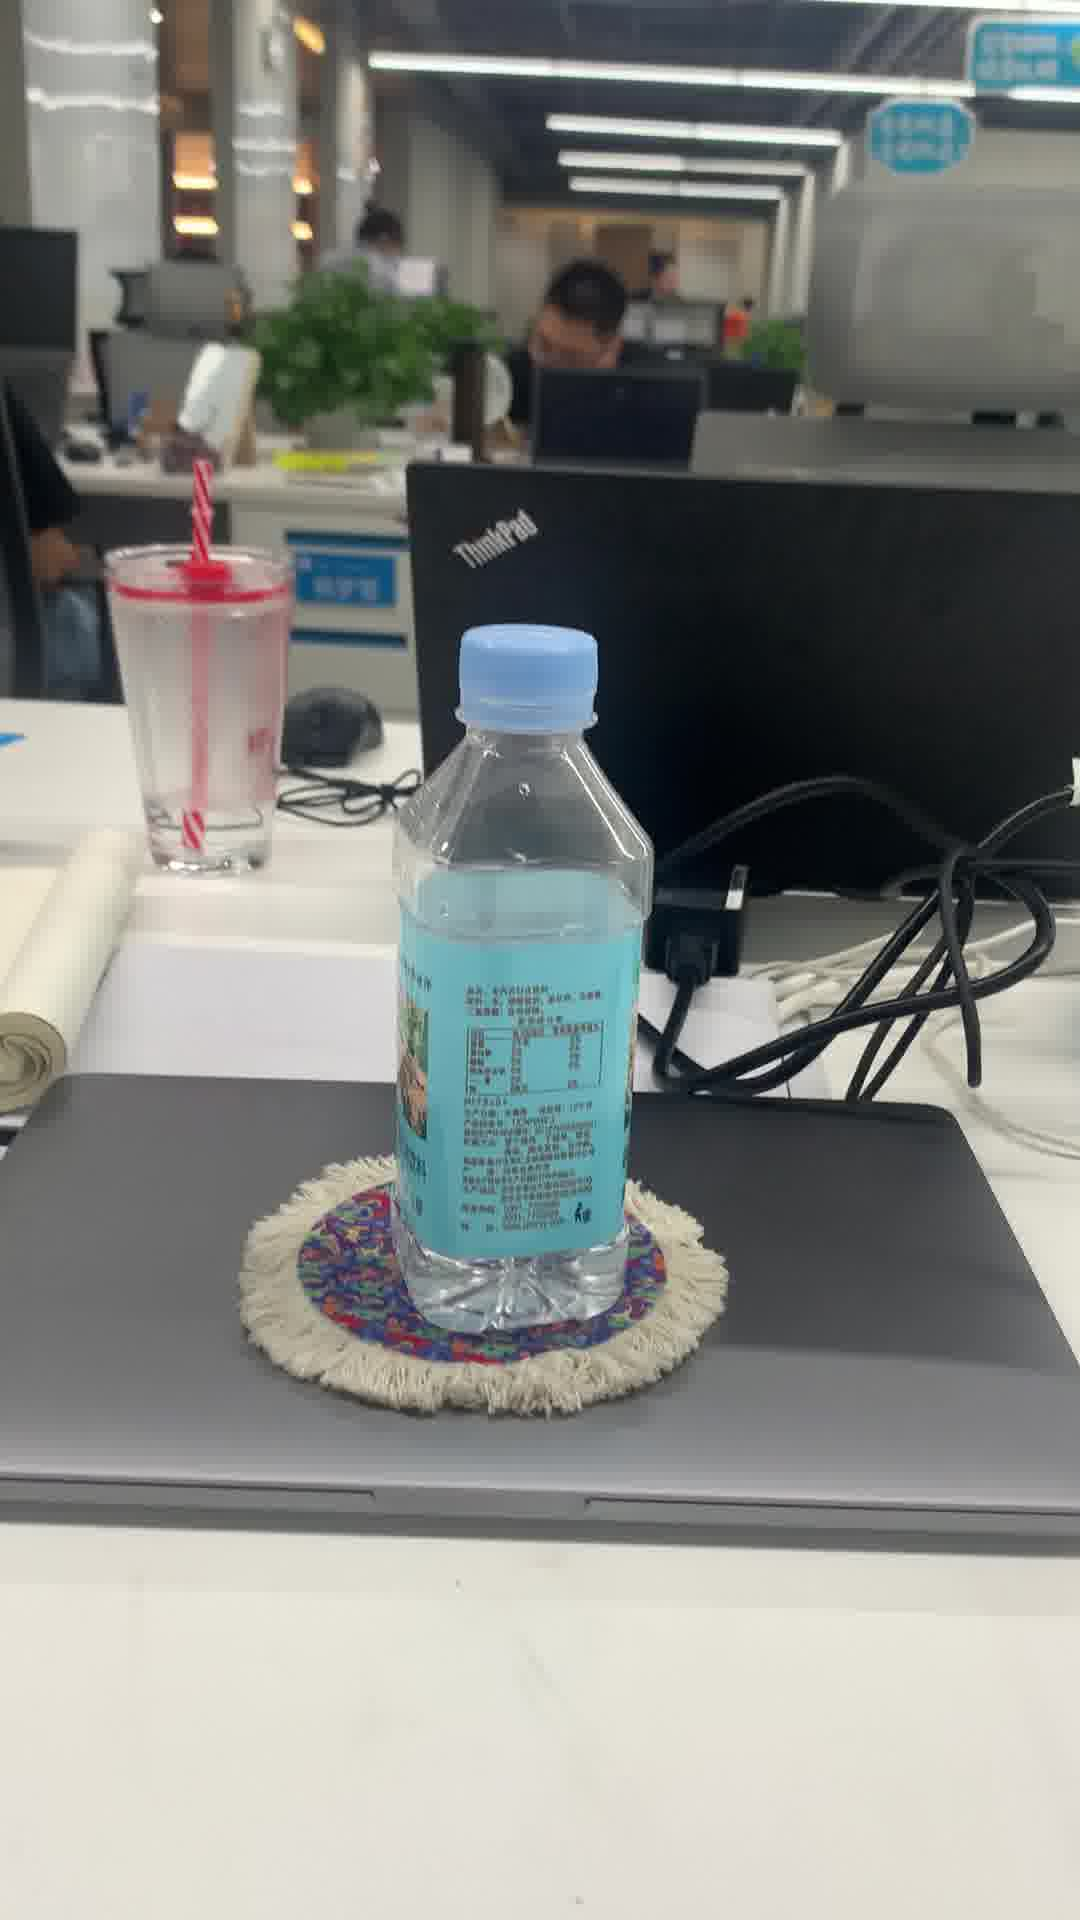水瓶: (388, 615, 657, 1350)
